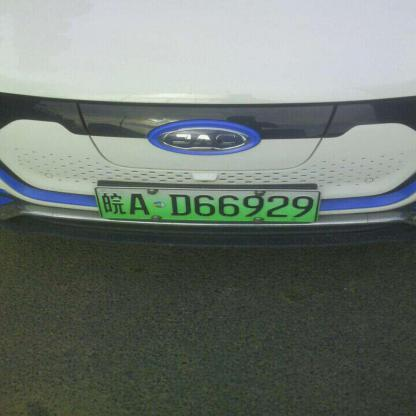lp: (95, 187, 317, 221)
